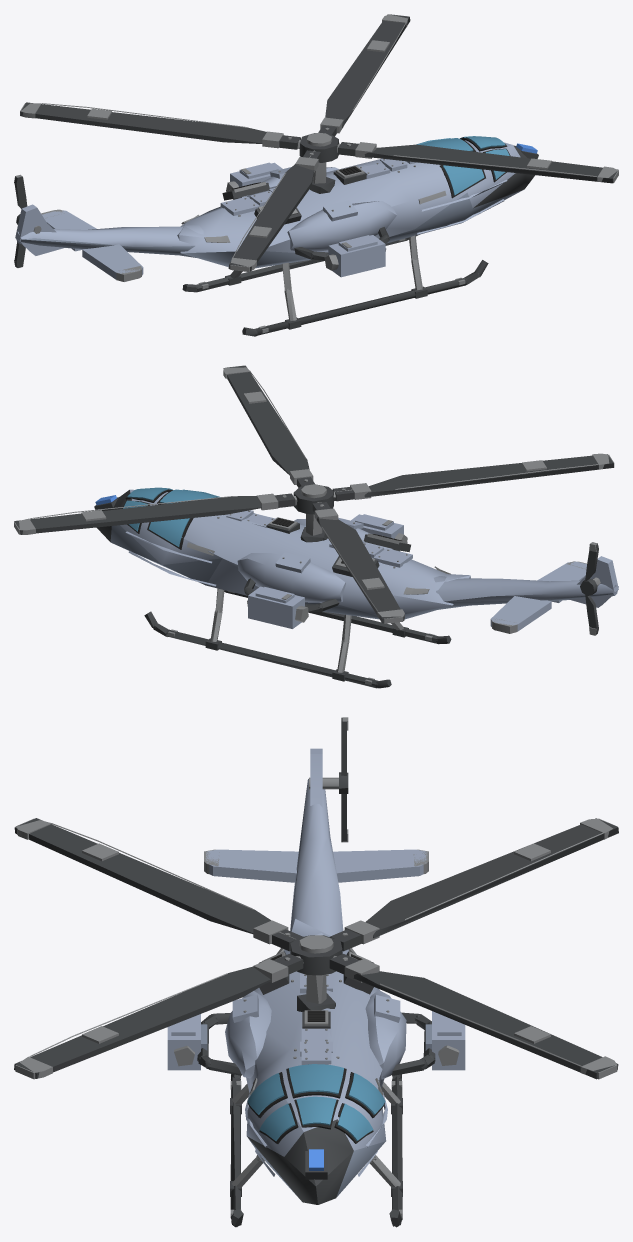
File: heli.glb
The picture shows the model from 3 angles, top to bottom: view 1: azimuth 30°, elevation 25°; view 2: azimuth 150°, elevation 25°; view 3: azimuth 270°, elevation 25°; orthographic projection. The views are drawn at different scales.
Visible parts, largest first — view 1: Body, Rotor, TailRotor; view 2: Body, Rotor, TailRotor; view 3: Body, Rotor, TailRotor.
Boxes of the visible parts, x1=… form: Body: x1=15, y1=136, x2=538, y2=336; Rotor: x1=20, y1=14, x2=618, y2=271; TailRotor: x1=14, y1=174, x2=41, y2=267; Body: x1=94, y1=487, x2=618, y2=688; Rotor: x1=14, y1=365, x2=614, y2=623; TailRotor: x1=580, y1=542, x2=600, y2=635; Body: x1=167, y1=748, x2=465, y2=1227; Rotor: x1=14, y1=818, x2=618, y2=1079; TailRotor: x1=309, y1=717, x2=348, y2=842.
Size of the model in its own units: 13.22 by 4.34 by 9.95.
